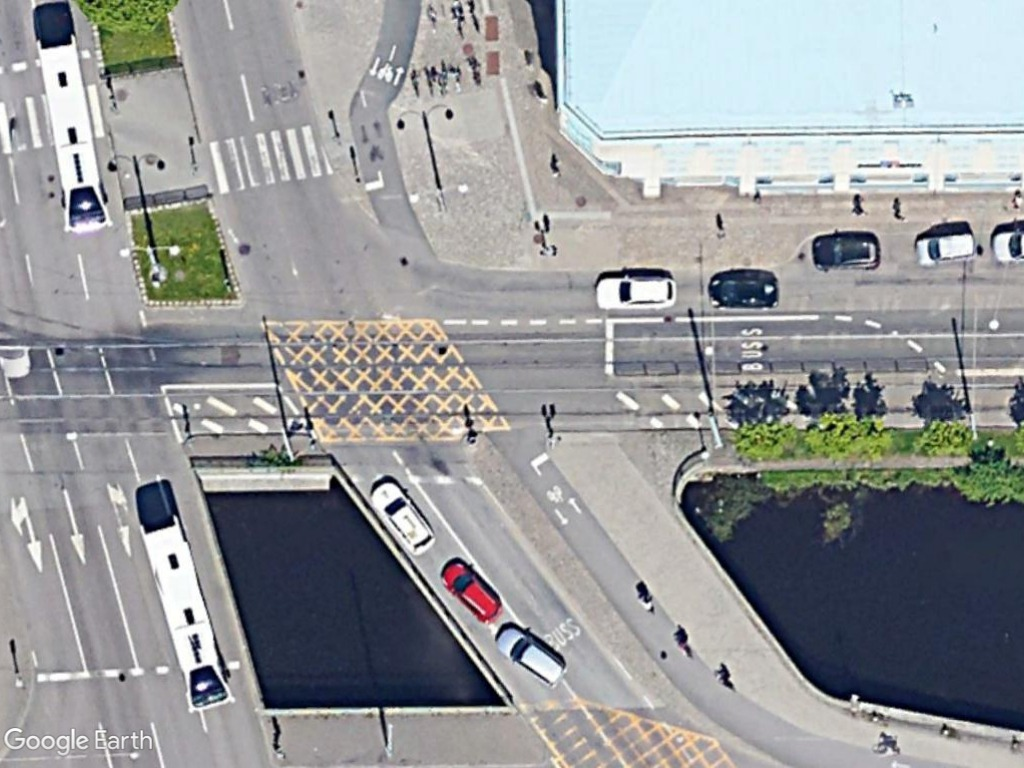bus: (135, 517, 240, 720), (20, 0, 109, 231)
car: (369, 475, 441, 560), (492, 621, 572, 688), (438, 555, 505, 628), (587, 272, 683, 314), (706, 272, 784, 313), (910, 225, 980, 269), (808, 234, 881, 276)
